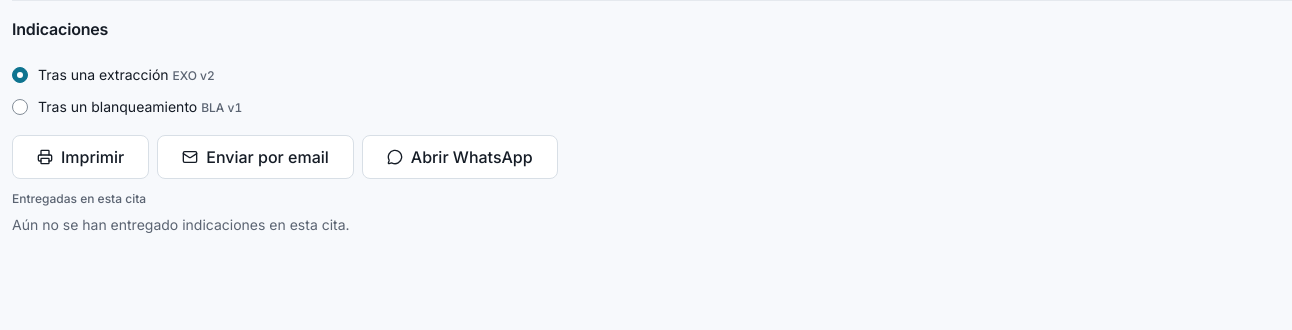
AppointmentPostOpPanel › una recarga fallida conserva selección, datos y entrega nueva con aviso recuperable
Click the radio button labelled "Tras un blanqueamiento BLA v1". click: click(20, 107)
box: [12,99,28,115]
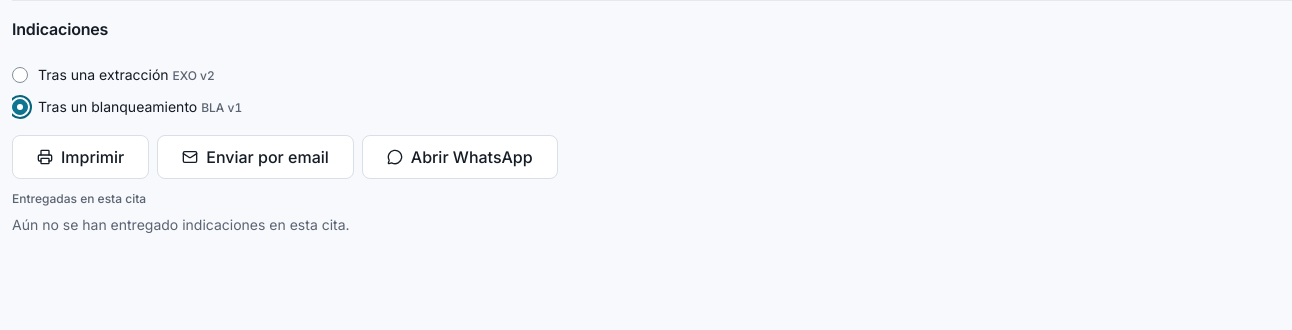
Click the button "Enviar por email". click: click(256, 157)
box: [157,135,354,179]
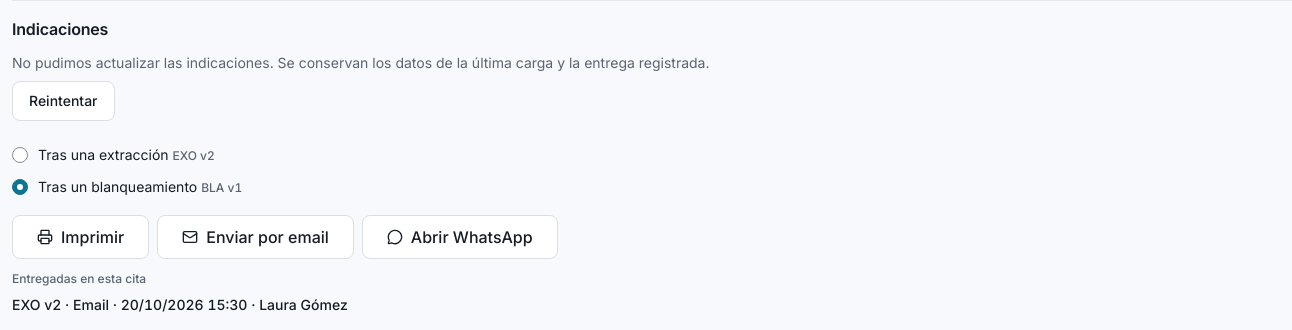
Check: the radio button labelled "Tras un blanqueamiento BLA v1" is checked, box [12,179,28,195]
Check: the text "No pudimos actualizar las indicaciones" is shown, box [12,54,710,71]
Check: the list named "Entregadas en esta cita" shows "EXO v2 · Email", box [12,296,348,313]
Click the button "Reintentar". click: click(63, 101)
box: [12,81,114,121]
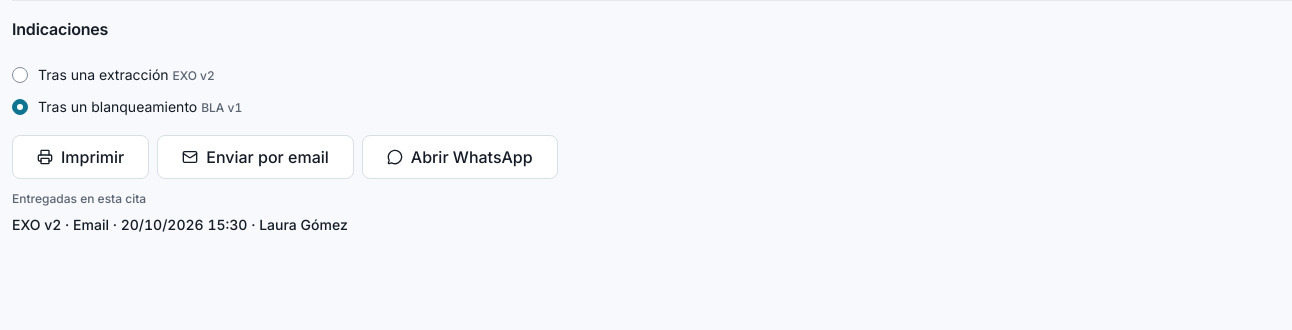
Check: the text "No pudimos actualizar las indicaciones" is gone
